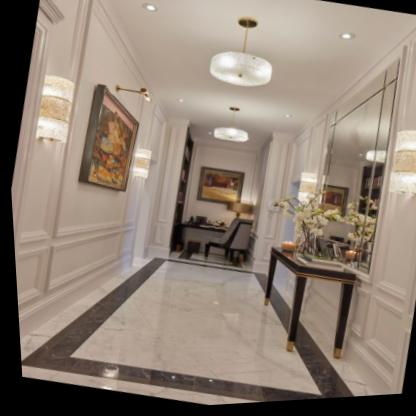Ceramic floor: (15, 261, 347, 407)
